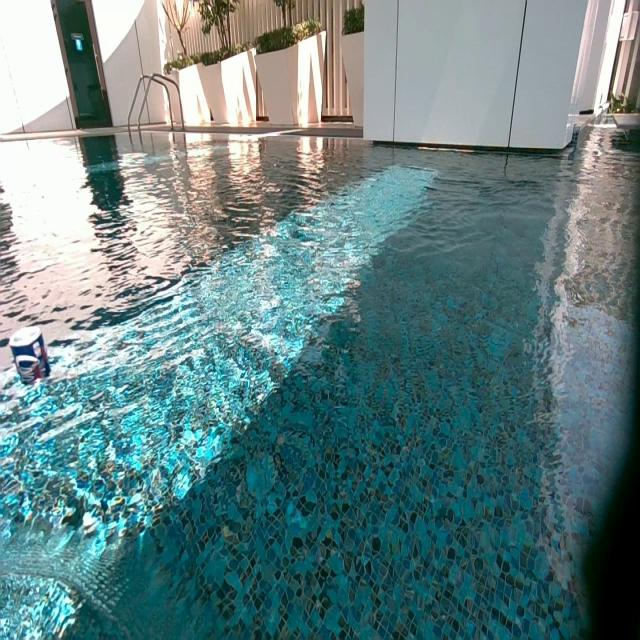Cans: (9, 323, 53, 369)
